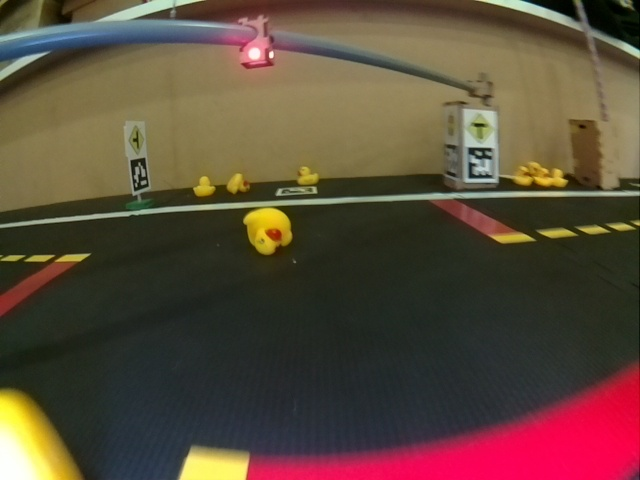Duckie: (244, 211, 293, 254), (226, 173, 250, 192), (193, 176, 214, 197), (298, 167, 317, 185), (536, 170, 549, 185)
Intersection sign: (465, 113, 495, 141), (129, 125, 146, 156)
QR code: (467, 145, 496, 181), (131, 158, 149, 192), (443, 144, 458, 177), (275, 186, 314, 196)
Traffic light: (237, 17, 275, 69)
